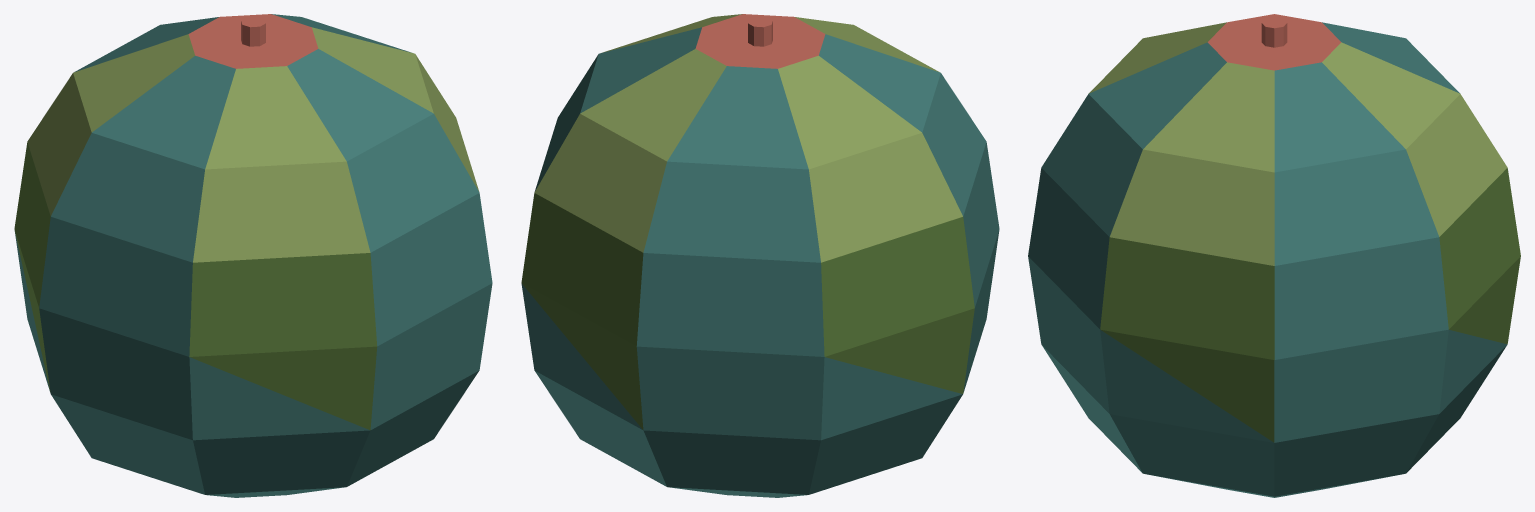
File: watermelon.glb
3 views of the same model, side by side, from view 1: azimuth 30°, elevation 25°; view 2: azimuth 150°, elevation 25°; view 3: azimuth 270°, elevation 25° (orthographic).
Size of the model in its own units: 1 by 1 by 1.
